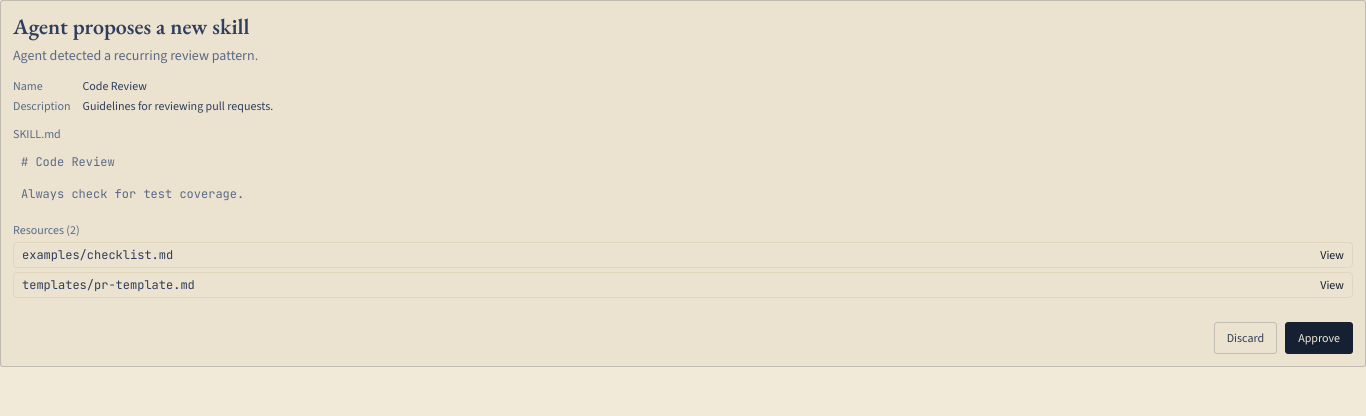
Scenario: SkillProposalCard › expands a resource row when [View] is clicked and collapses on [Hide]
# Click the first resource's View button.
Step 1. Click the button "View" in the row of "examples/checklist.md" → point(1332, 255), box [1320, 247, 1344, 263]
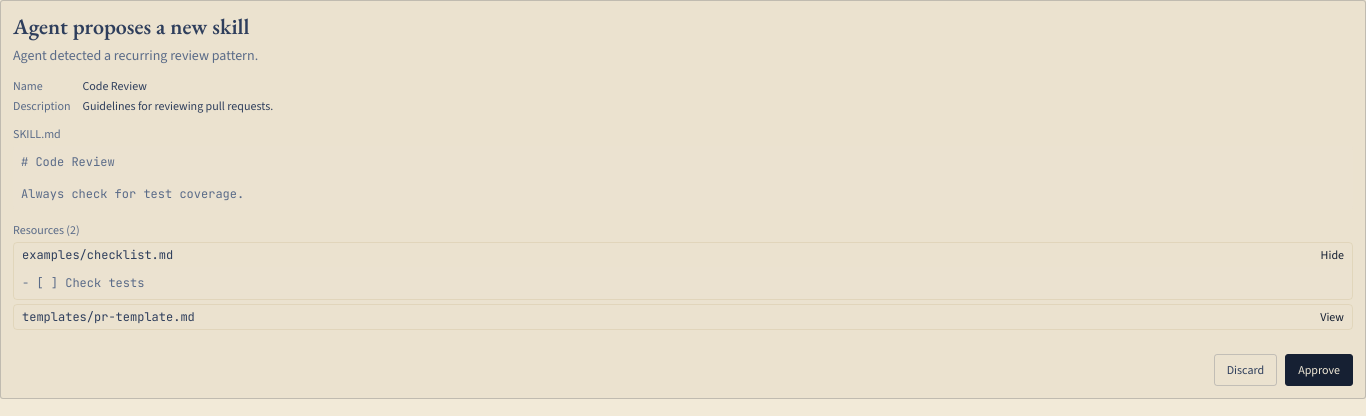
Expected: the text "- [ ] Check tests" is shown, [14, 267, 1352, 299]
Expected: the button "Hide" is shown
# Click Hide to collapse.
Step 2. Click the button "Hide" → point(1332, 255), box [1321, 247, 1344, 263]
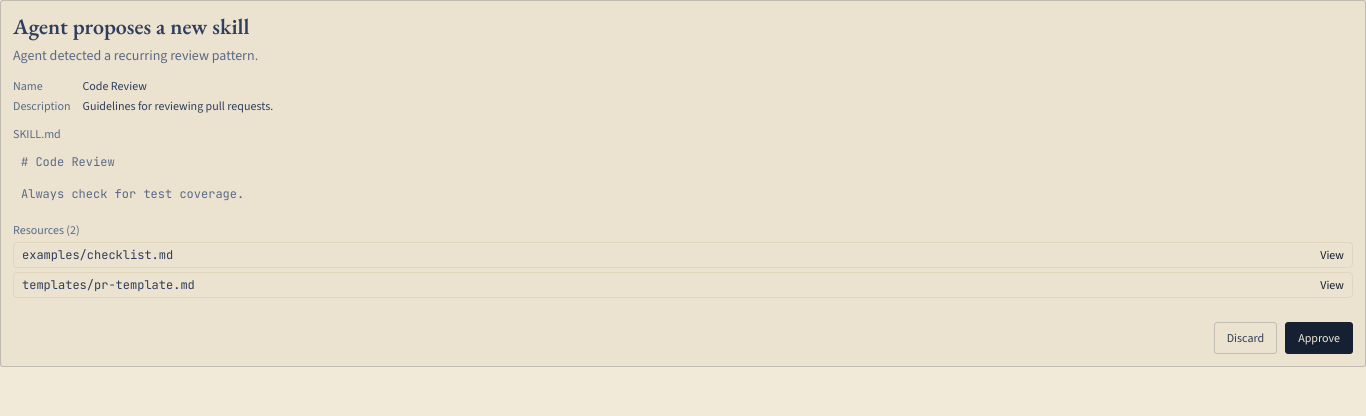
Expected: the text "- [ ] Check tests" is gone
